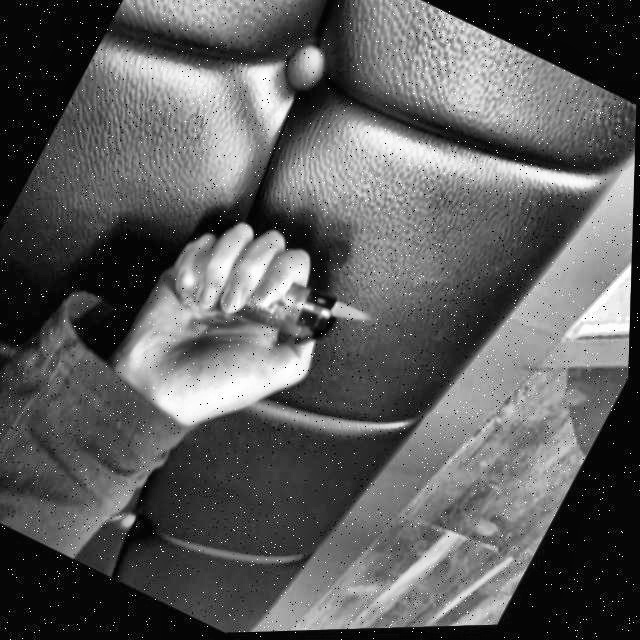Fire: (327, 299, 375, 337)
